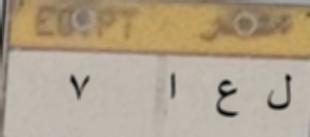7: (63, 68, 103, 106)
ain: (211, 74, 244, 129)
alif: (162, 68, 187, 110)
laam: (258, 73, 299, 116)
